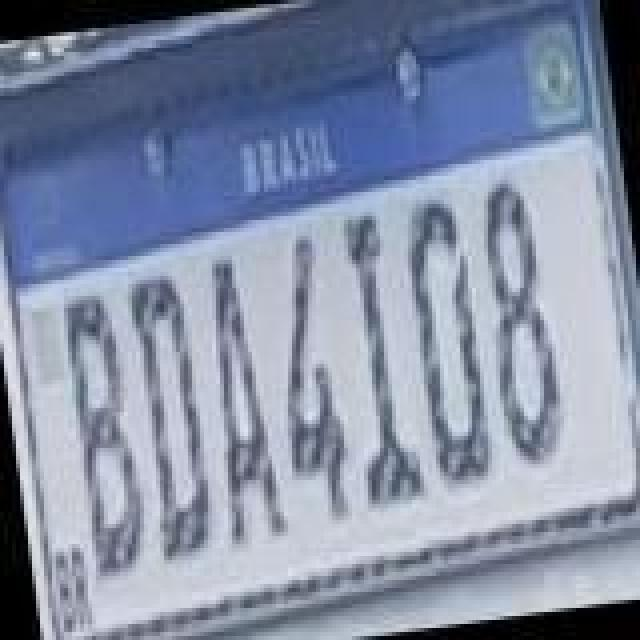4: (254, 228, 354, 524)
8: (468, 176, 572, 472)
A: (190, 248, 290, 552)
B: (56, 288, 152, 576)
D: (396, 192, 500, 496), (120, 268, 216, 564)
I: (324, 206, 428, 514)
